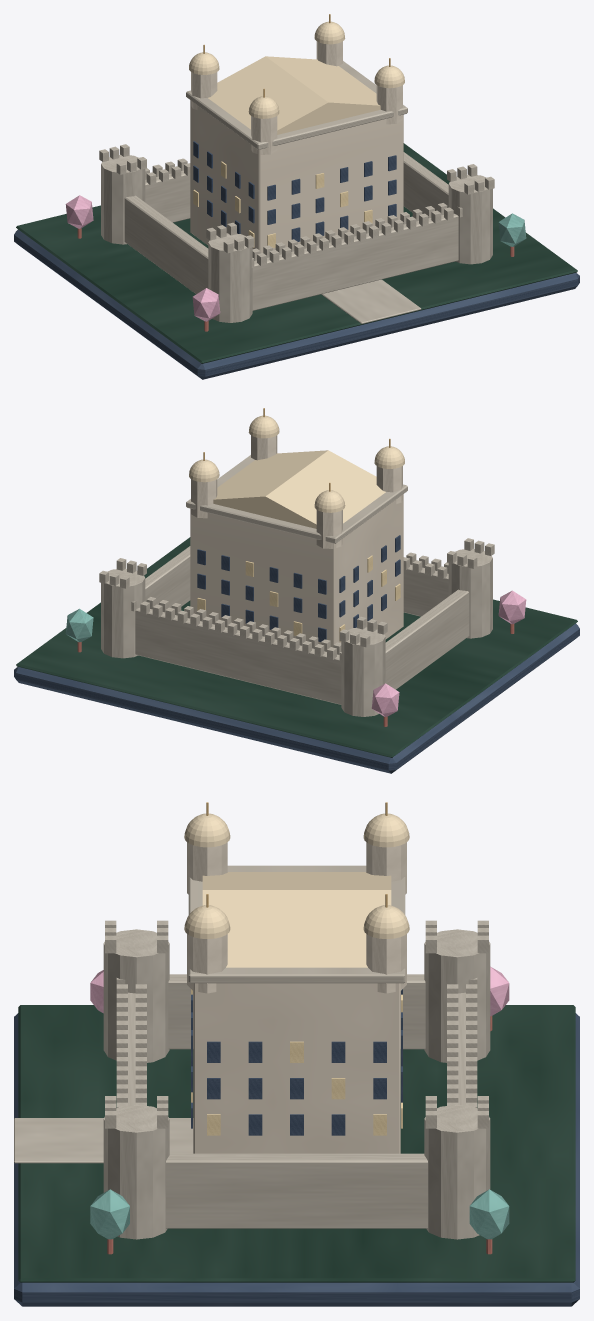
File: tower-of-london-diorama.glb
3 views of the same model, one above another, from view 1: azimuth 30°, elevation 25°; view 2: azimuth 150°, elevation 25°; view 3: azimuth 270°, elevation 25° (orthographic). The views are drawn at different scales.
Visible parts, largest first — view 1: tower-of-london; view 2: tower-of-london; view 3: tower-of-london.
Boxes of the visible parts, box(x1,y1,x2,y2) form: tower-of-london: box(14, 14, 579, 379); tower-of-london: box(14, 408, 579, 773); tower-of-london: box(14, 802, 579, 1306).
Bounding box in the file's own units: 14 × 7.54 × 12.
Materials: 1 (1 with a texture image).
